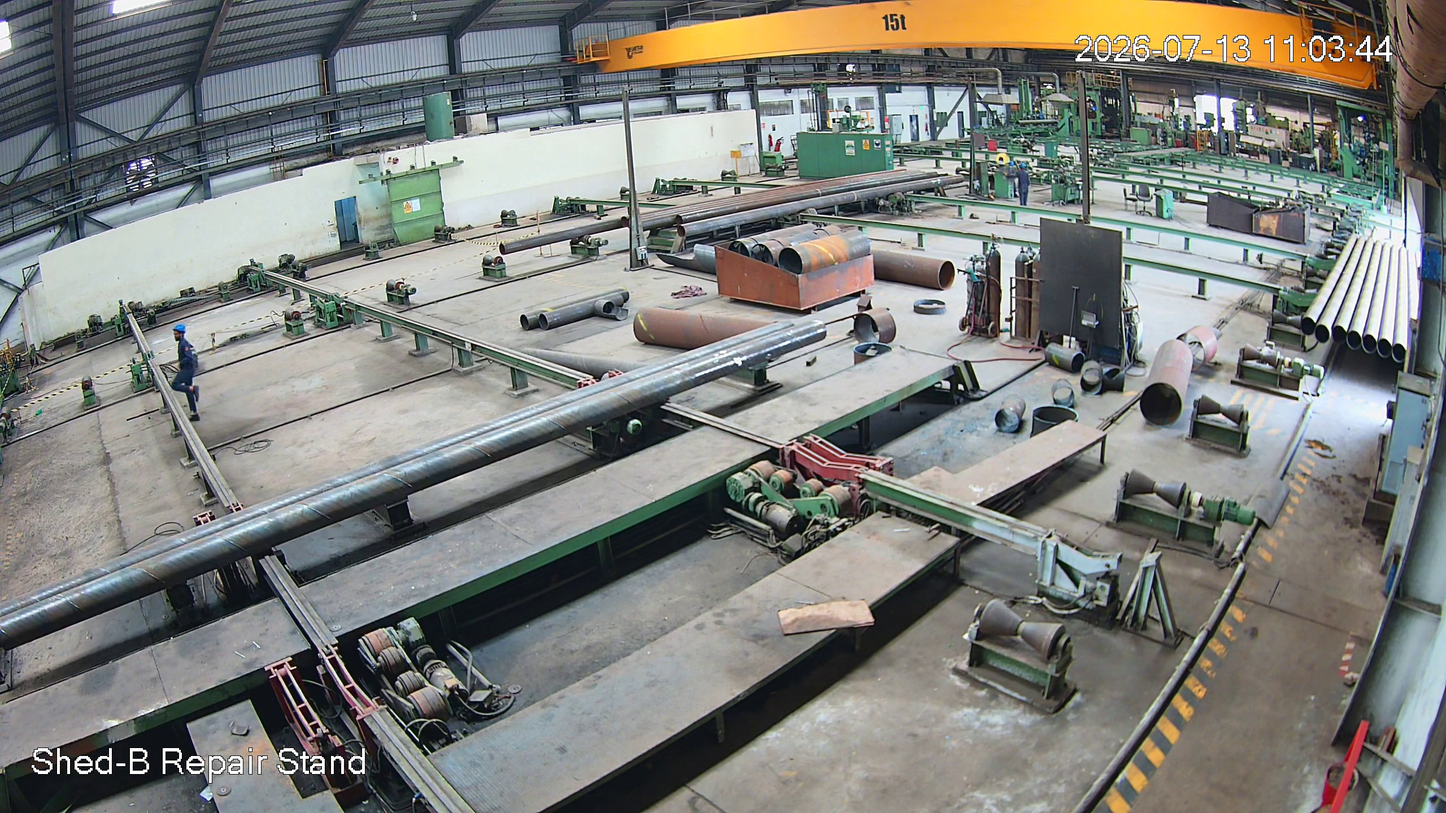Helmet: (172, 323, 197, 346)
Person: (166, 325, 205, 423)
